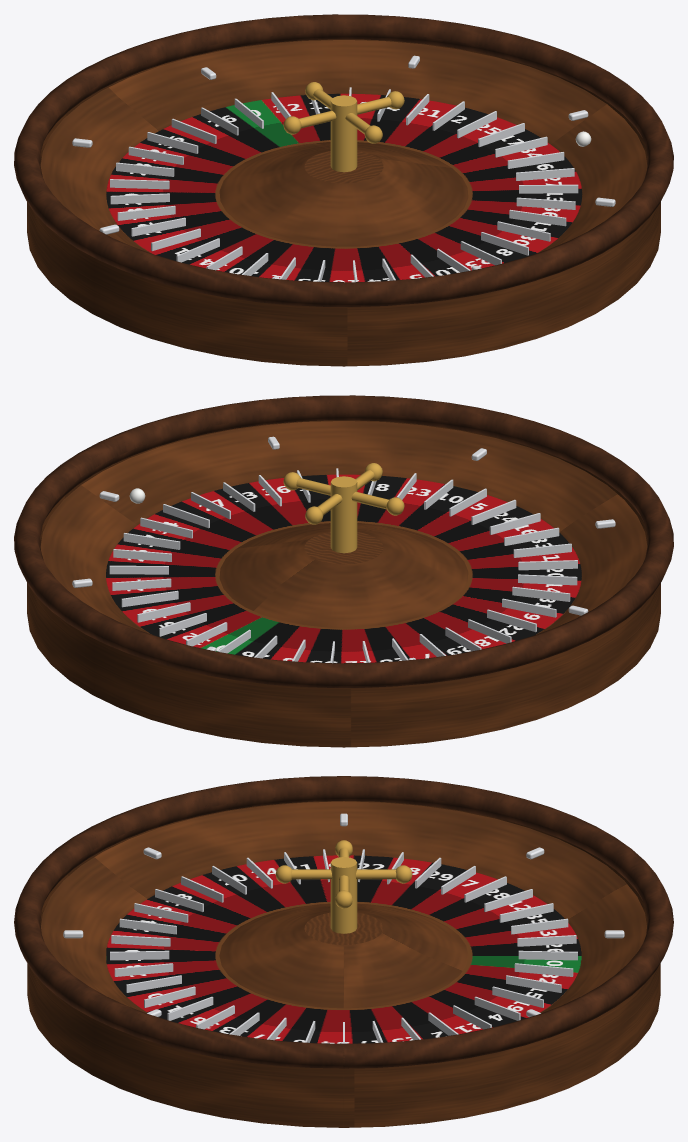
The model's file is ruleta_rueda.glb.
The picture shows the model from 3 angles, top to bottom: view 1: azimuth 30°, elevation 25°; view 2: azimuth 150°, elevation 25°; view 3: azimuth 270°, elevation 25°; orthographic projection.
Visible parts, largest first — view 1: ruleta_rueda; view 2: ruleta_rueda; view 3: ruleta_rueda.
Part boxes in pixels (x1,y1,x2,y2): ruleta_rueda: (14, 14, 673, 366); ruleta_rueda: (14, 395, 673, 747); ruleta_rueda: (14, 776, 673, 1127).
Size of the model in its own units: 1 by 0.22 by 1.
Materials: 6 (3 with a texture image).
